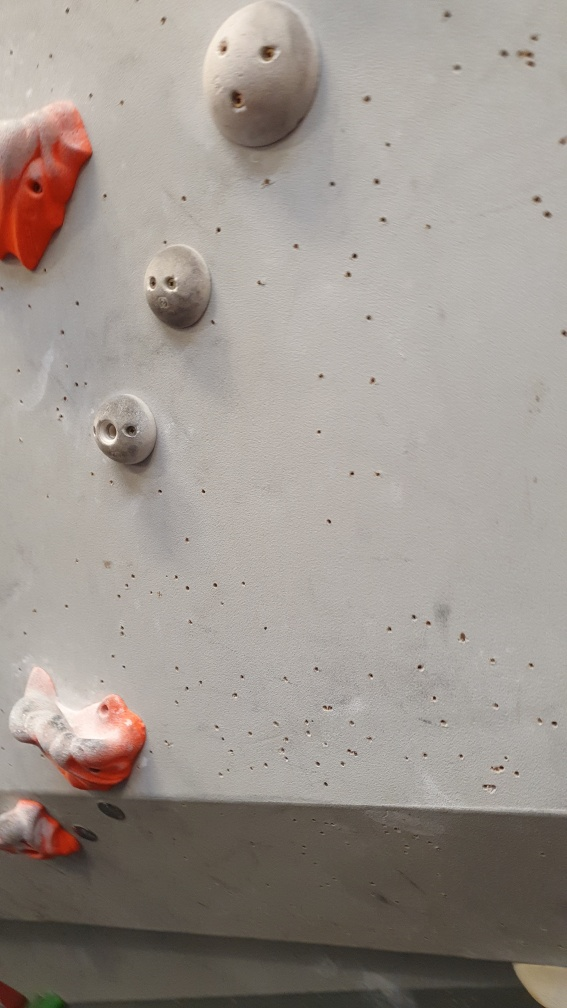Hand Start: (96, 800, 127, 824), (71, 824, 100, 844)
Jug: (1, 90, 103, 274), (5, 665, 148, 793), (1, 791, 86, 863)
Sloper: (199, 1, 323, 152), (143, 243, 214, 331), (91, 392, 159, 465)
